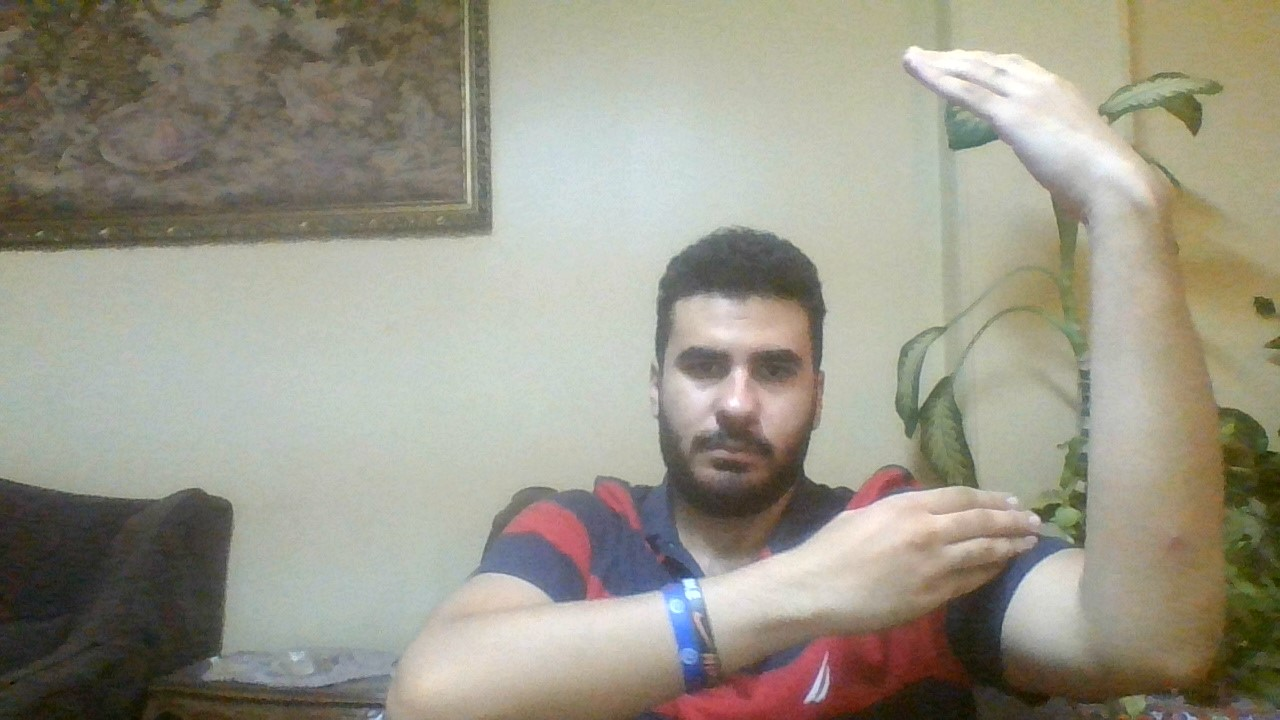morning: (800, 30, 1223, 667)
